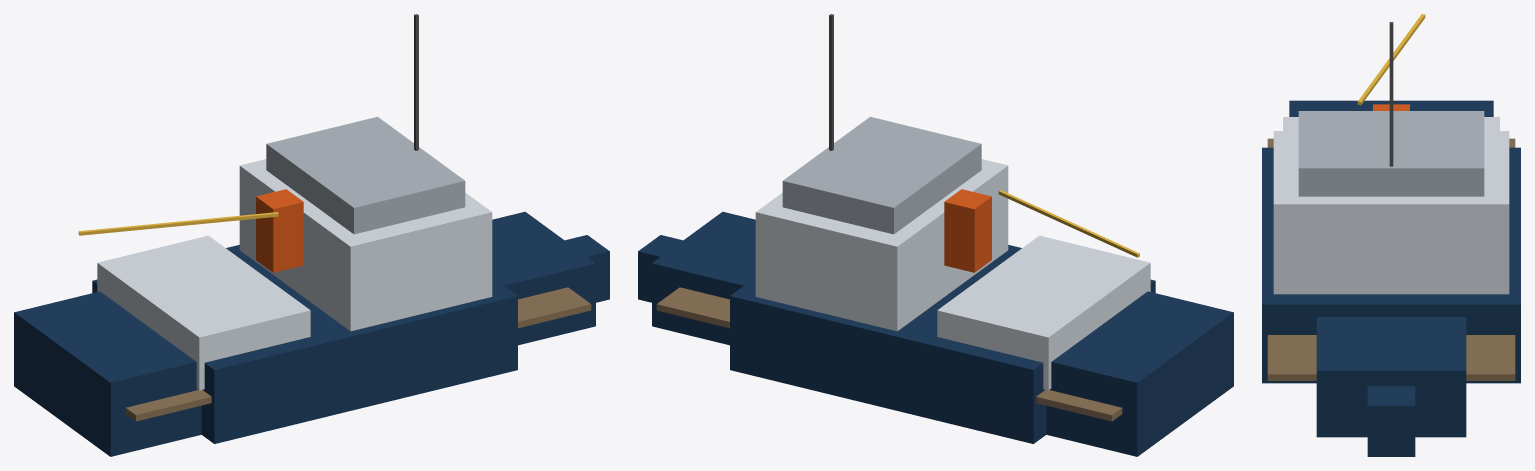
Rendered from survey-vessel.glb.
3 views of the same model, side by side, from view 1: azimuth 30°, elevation 25°; view 2: azimuth 150°, elevation 25°; view 3: azimuth 270°, elevation 25° (orthographic). The views are drawn at different scales.
Size of the model in its own units: 10.6 by 6.06 by 4.18.
